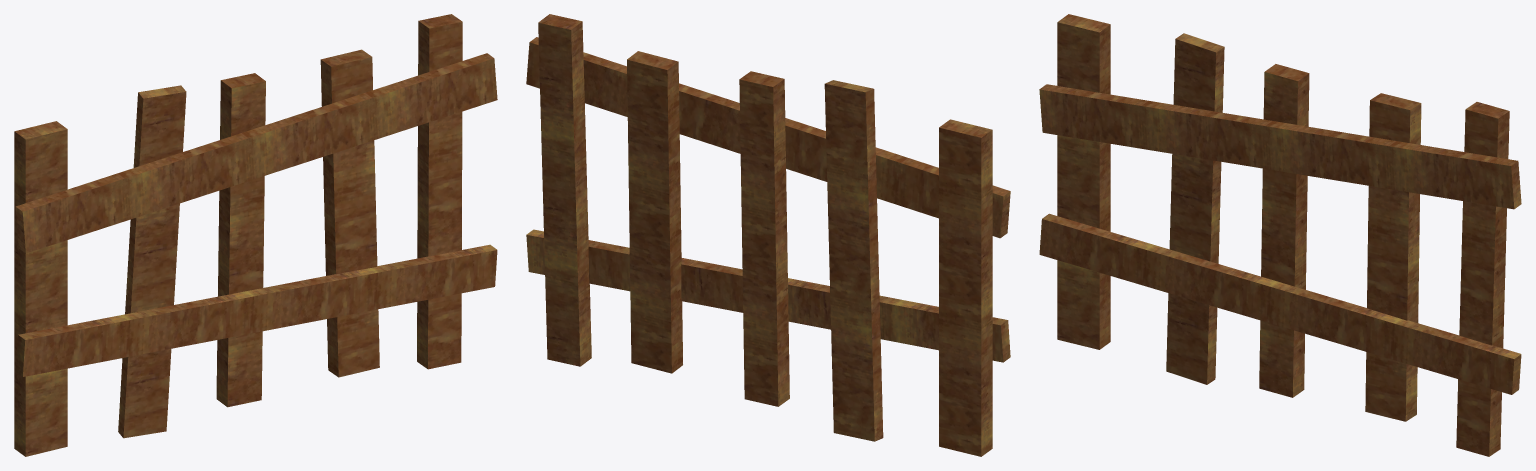
Rendered from OldFence.fbx.
3 views of the same model, side by side, from view 1: azimuth 30°, elevation 25°; view 2: azimuth 150°, elevation 25°; view 3: azimuth 330°, elevation 25° (orthographic).
Parts seen in each view (by area): view 1: Old_Fence; view 2: Old_Fence; view 3: Old_Fence.
Boxes of the visible parts, left/top/right/bottom form: Old_Fence: left=14, top=14, right=497, bottom=456; Old_Fence: left=526, top=14, right=1010, bottom=456; Old_Fence: left=1039, top=14, right=1521, bottom=456.
Bounding box in the file's own units: 642 × 444 × 51.09.
